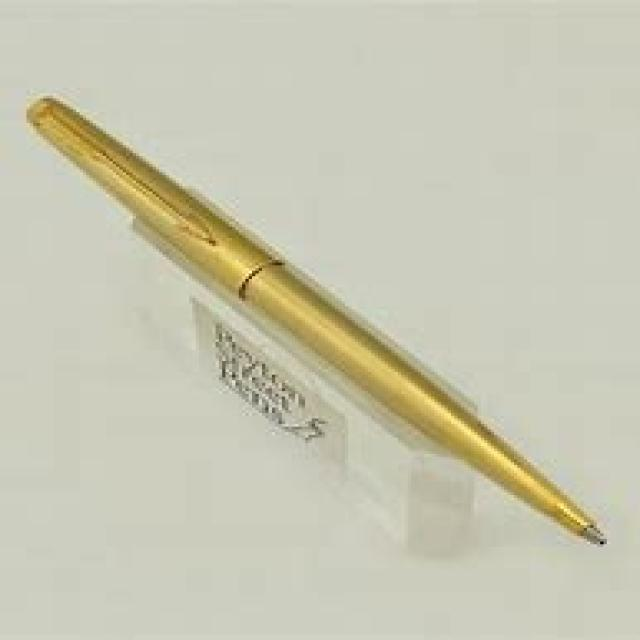pen: (15, 92, 613, 550)
